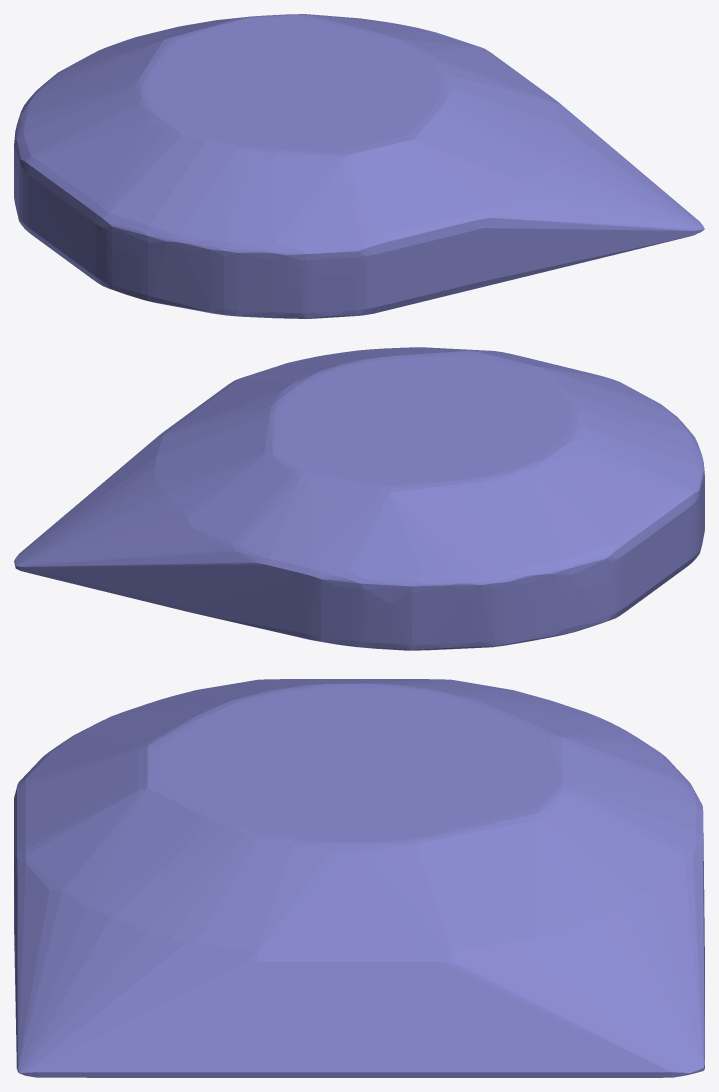
The model's file is right_knee_link_part_12.obj.
3 renders of one model, top to bottom at view 1: azimuth 30°, elevation 25°; view 2: azimuth 150°, elevation 25°; view 3: azimuth 270°, elevation 25°, orthographic. The views are drawn at different scales.
Bounding box in the file's own units: 0.1036 × 0.0227 × 0.0966.
